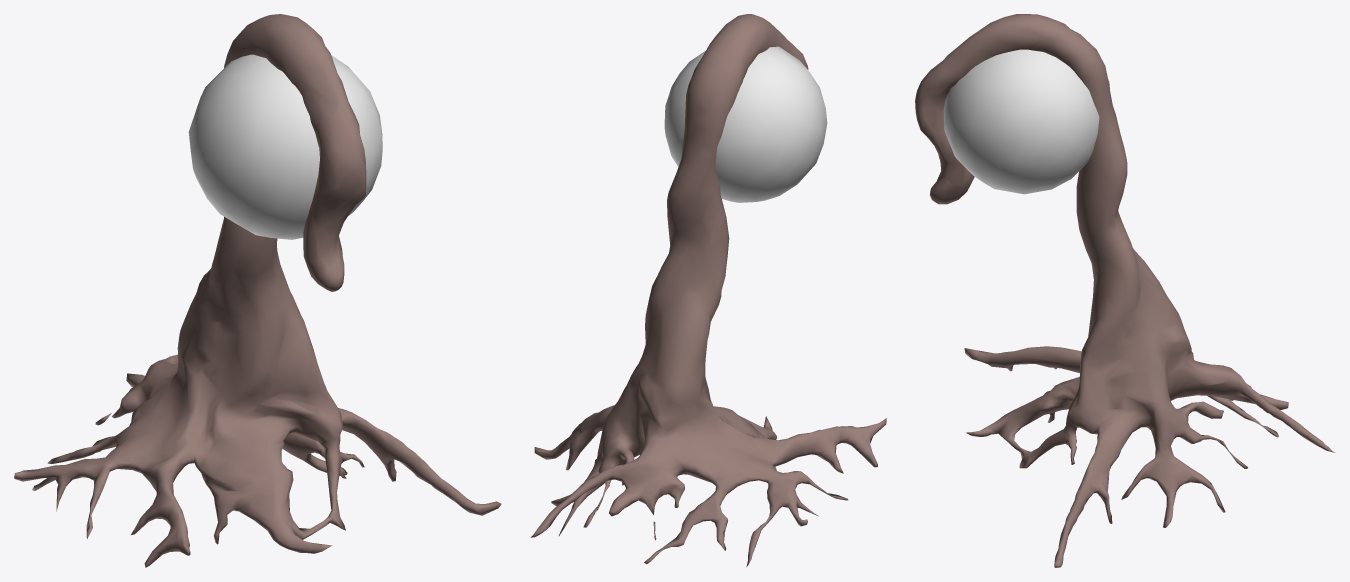
The model's file is savepoint.fbx.
3 views of the same model, side by side, from view 1: azimuth 30°, elevation 25°; view 2: azimuth 150°, elevation 25°; view 3: azimuth 270°, elevation 25° (orthographic). The views are drawn at different scales.
Parts seen in each view (by area): view 1: Cube, Sphere; view 2: Cube, Sphere; view 3: Cube, Sphere.
Part boxes in pixels (bbox=[...]): Cube: bbox=[14, 14, 501, 567]; Sphere: bbox=[188, 54, 382, 239]; Cube: bbox=[531, 14, 886, 567]; Sphere: bbox=[664, 46, 827, 202]; Cube: bbox=[915, 14, 1335, 567]; Sphere: bbox=[943, 49, 1099, 194].
Size of the model in its own units: 482 by 521 by 636.
